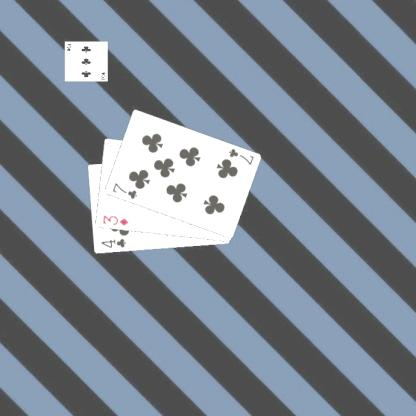3D: (100, 212, 130, 228)
4C: (98, 236, 127, 250)
7C: (109, 180, 138, 200), (226, 146, 255, 166)
